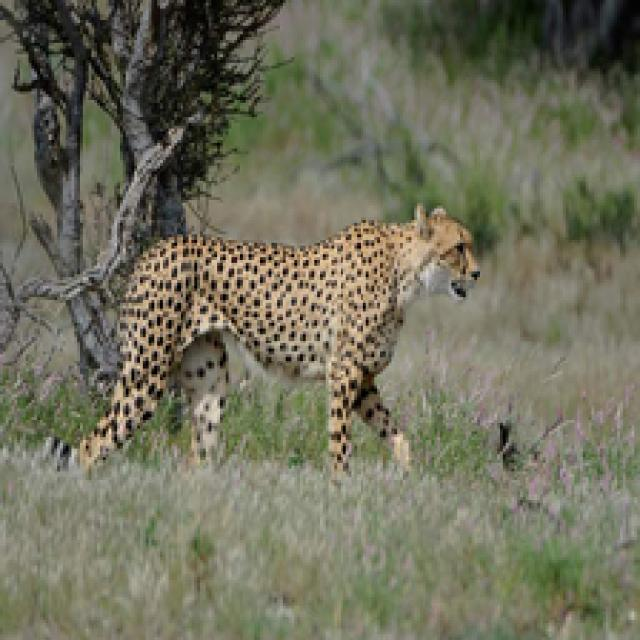cheetah: (88, 191, 533, 474)
